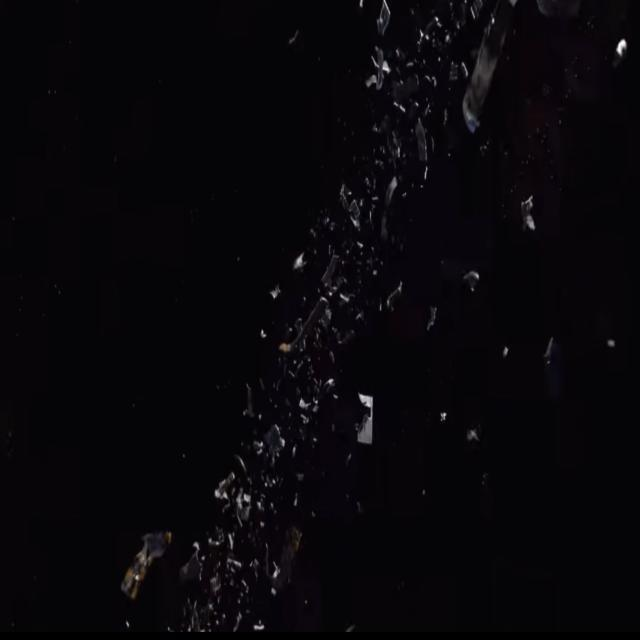large_debris: (463, 20, 509, 132), (123, 523, 173, 603), (291, 292, 329, 346), (357, 387, 385, 454), (339, 183, 365, 235), (367, 44, 394, 92), (182, 531, 204, 582), (291, 527, 307, 588), (215, 466, 235, 512), (456, 263, 481, 295), (241, 379, 260, 421), (187, 600, 209, 636), (374, 0, 395, 35), (238, 490, 256, 529), (603, 332, 623, 367), (321, 252, 339, 290), (521, 192, 538, 232), (413, 116, 429, 158), (266, 424, 284, 459), (387, 278, 403, 312), (383, 177, 405, 200), (541, 332, 557, 362), (614, 41, 635, 61), (535, 1, 557, 20), (276, 334, 294, 356), (209, 570, 223, 598), (377, 213, 393, 237), (121, 610, 137, 630), (394, 97, 408, 119), (237, 455, 251, 476), (270, 561, 284, 581), (429, 306, 439, 334), (466, 429, 480, 449), (354, 308, 369, 325), (253, 617, 267, 635), (270, 282, 282, 302), (232, 612, 244, 630), (299, 395, 315, 408), (208, 535, 222, 549), (415, 25, 423, 47), (228, 561, 244, 571), (296, 252, 304, 272), (325, 377, 338, 389), (302, 412, 313, 426), (310, 398, 320, 412), (502, 343, 508, 365), (324, 307, 336, 318), (433, 15, 442, 29), (257, 324, 267, 336), (406, 57, 415, 66), (509, 0, 517, 10), (270, 586, 276, 598), (358, 0, 364, 12), (441, 410, 449, 418), (443, 36, 452, 43), (207, 603, 214, 611), (339, 296, 351, 300), (331, 390, 337, 396)
